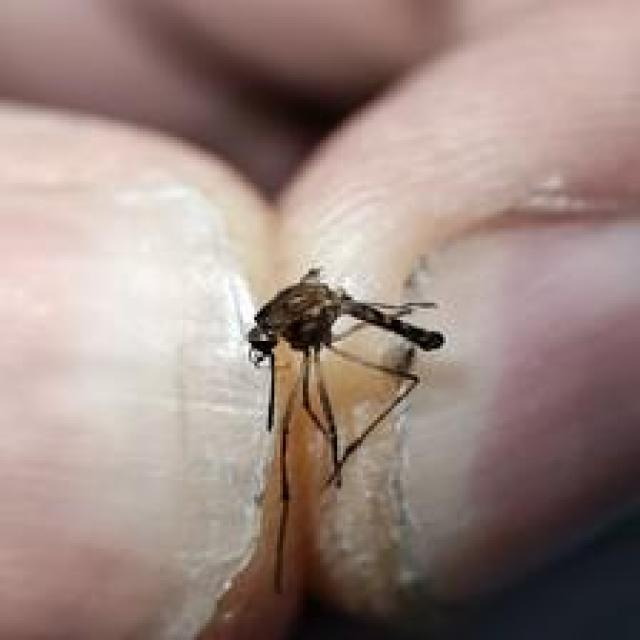Culex: (243, 264, 446, 496)
